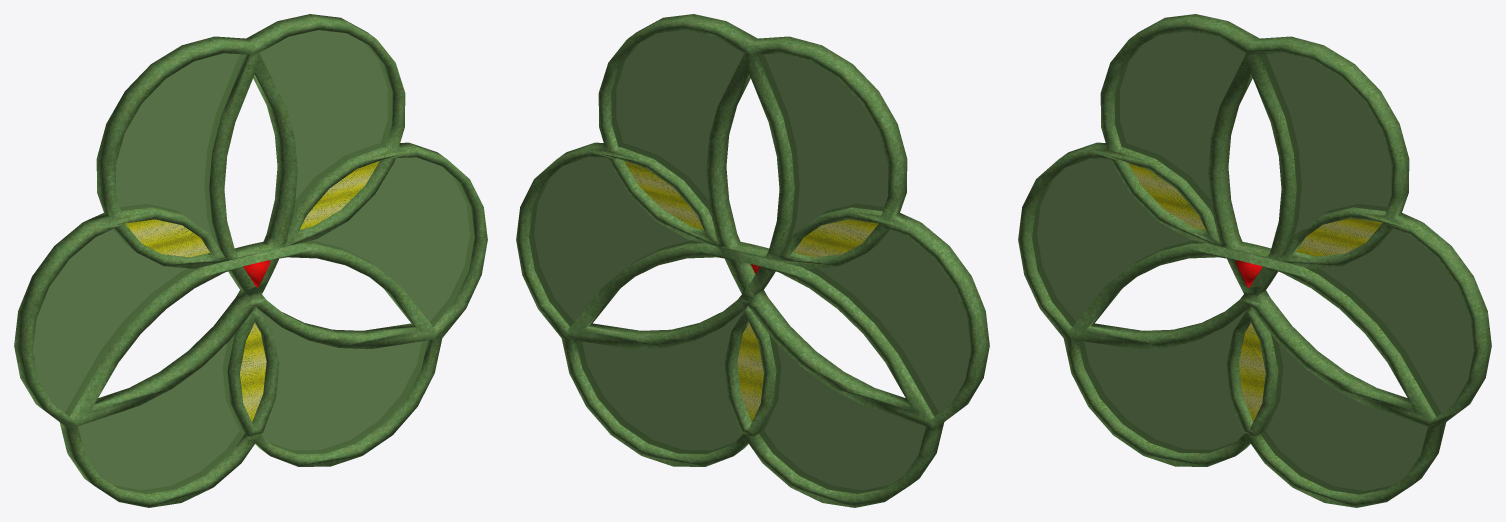
The model's file is celtic_clover_knot.dae.
3 views of the same model, side by side, from view 1: azimuth 30°, elevation 25°; view 2: azimuth 150°, elevation 25°; view 3: azimuth 330°, elevation 25° (orthographic).
Parts seen in each view (by area): view 1: SketchUp (×12); view 2: SketchUp (×12); view 3: SketchUp (×12).
Boxes of the visible parts, x1,y1,x2,y2 form: SketchUp (×12): (14,14,487,507); SketchUp (×12): (516,14,989,507); SketchUp (×12): (1018,14,1491,507).
Bounding box in the file's own units: 326 × 18 × 302.
6 materials, 2 textured.
